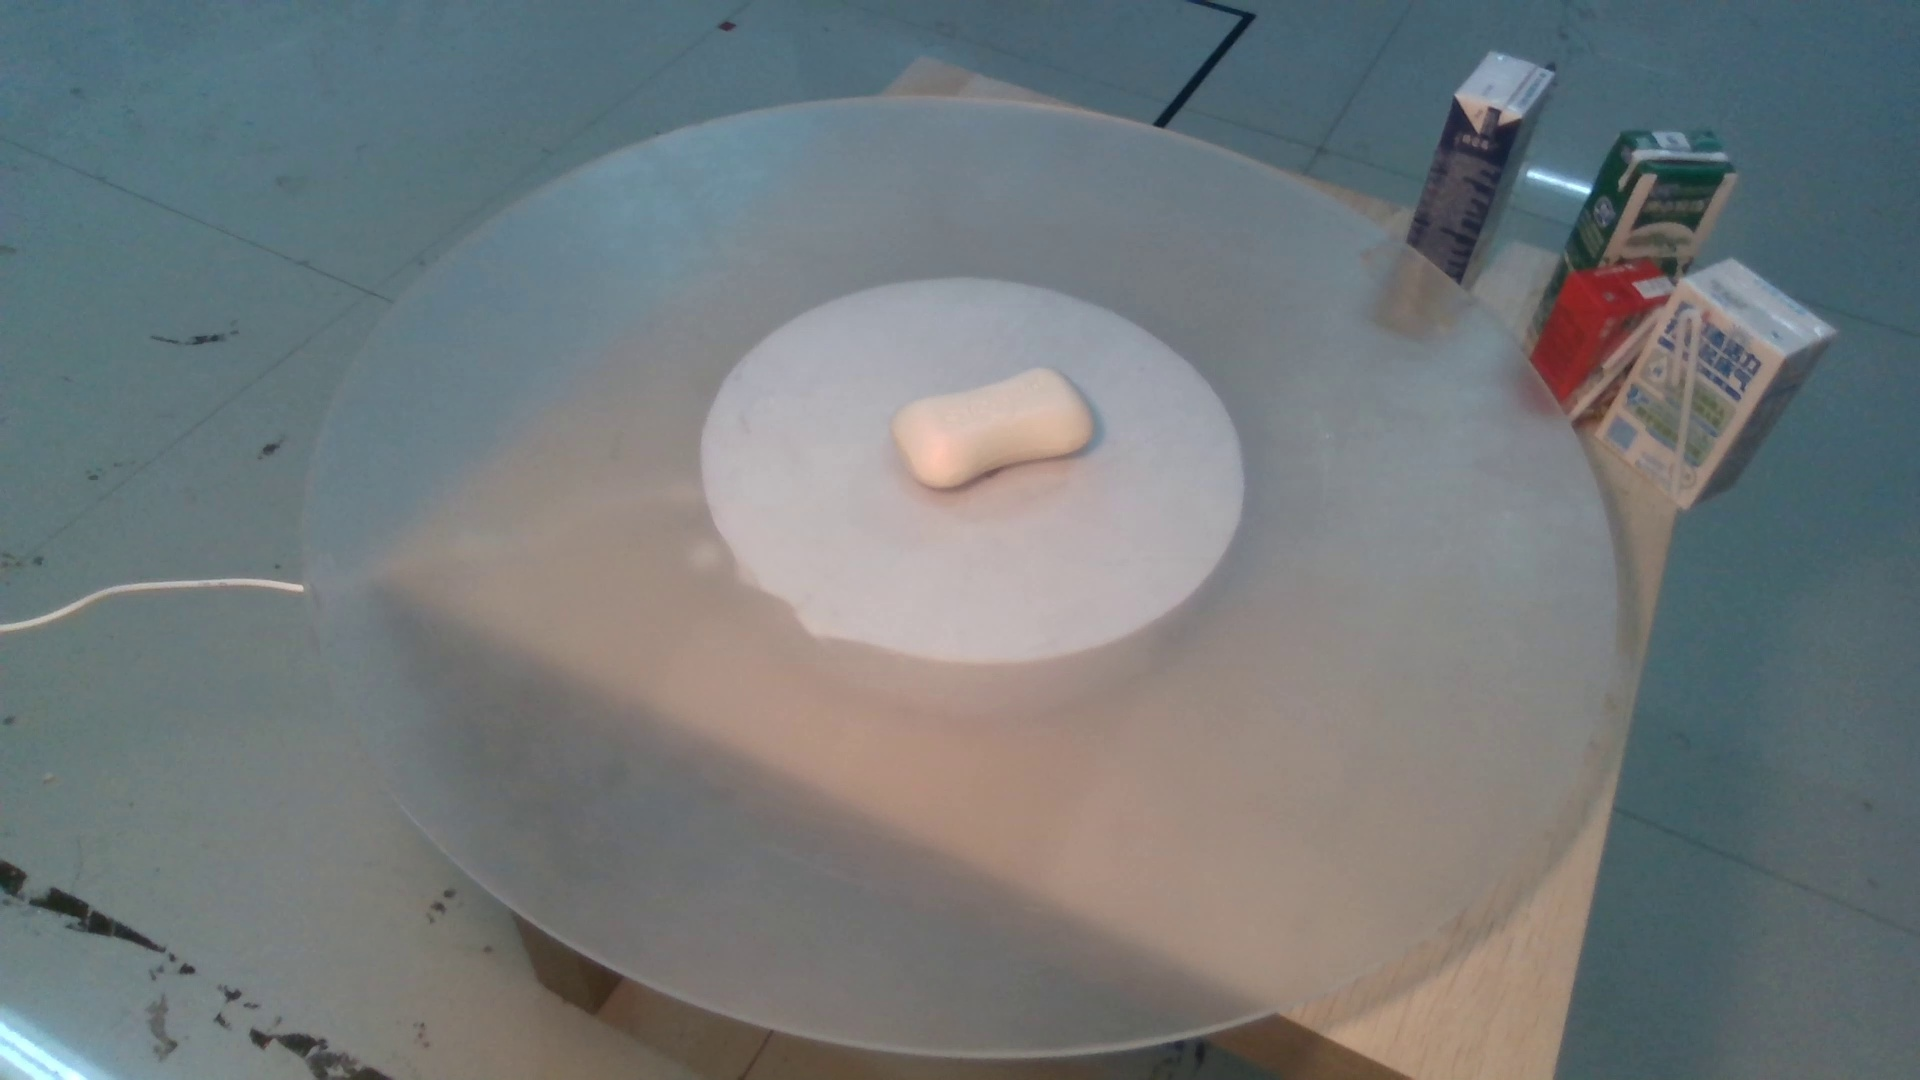CA003_1: (877, 353, 1097, 491)
